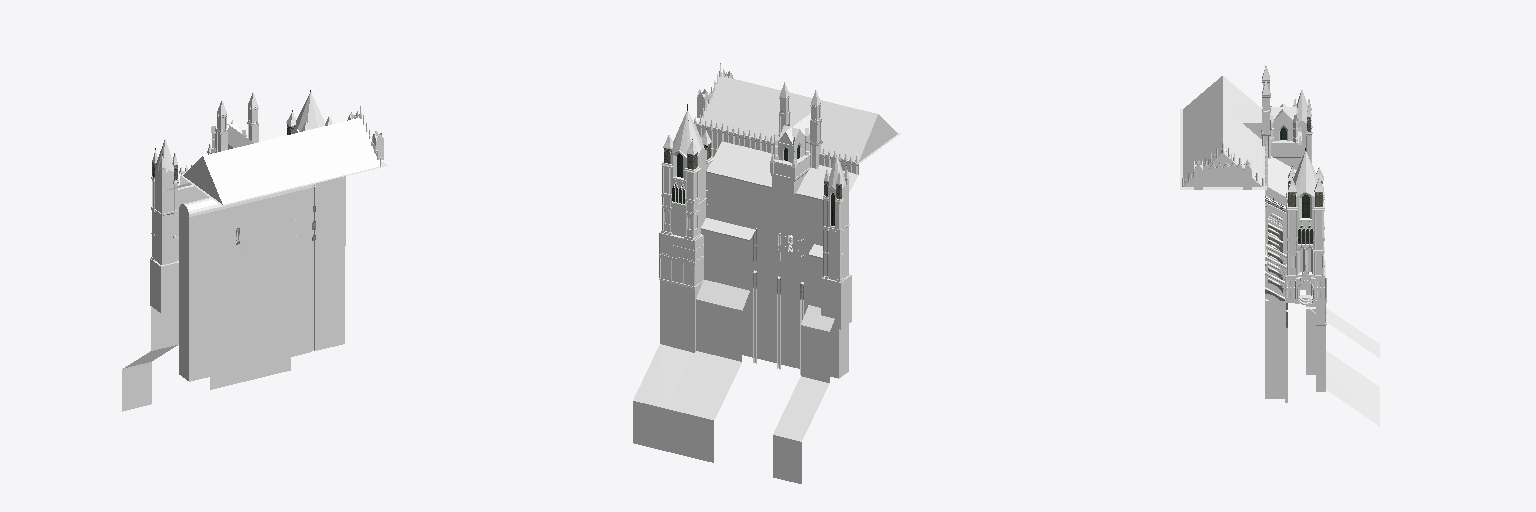
3 views of the same model, side by side, from view 1: azimuth 30°, elevation 25°; view 2: azimuth 150°, elevation 25°; view 3: azimuth 270°, elevation 25° (orthographic).
Visible parts, largest first — view 1: mesh0, mesh1; view 2: mesh0, mesh1, mesh5, mesh16, mesh14; view 3: mesh1, mesh0, mesh14, mesh16, mesh5.
Part boxes in pixels (left/top/right/bottom): mesh0: left=122, top=107, right=387, bottom=411; mesh1: left=123, top=92, right=381, bottom=368; mesh0: left=633, top=71, right=900, bottom=483; mesh1: left=633, top=76, right=877, bottom=441; mesh5: left=661, top=99, right=818, bottom=285; mesh16: left=664, top=63, right=857, bottom=256; mesh14: left=659, top=73, right=857, bottom=287; mesh1: left=1183, top=66, right=1379, bottom=425; mesh0: left=1180, top=81, right=1326, bottom=402; mesh14: left=1194, top=140, right=1326, bottom=324; mesh16: left=1182, top=125, right=1322, bottom=298; mesh5: left=1203, top=83, right=1323, bottom=297.
Bounding box in the file's own units: 92.23 × 169 × 89.01.
Materials: 29 (9 with a texture image).